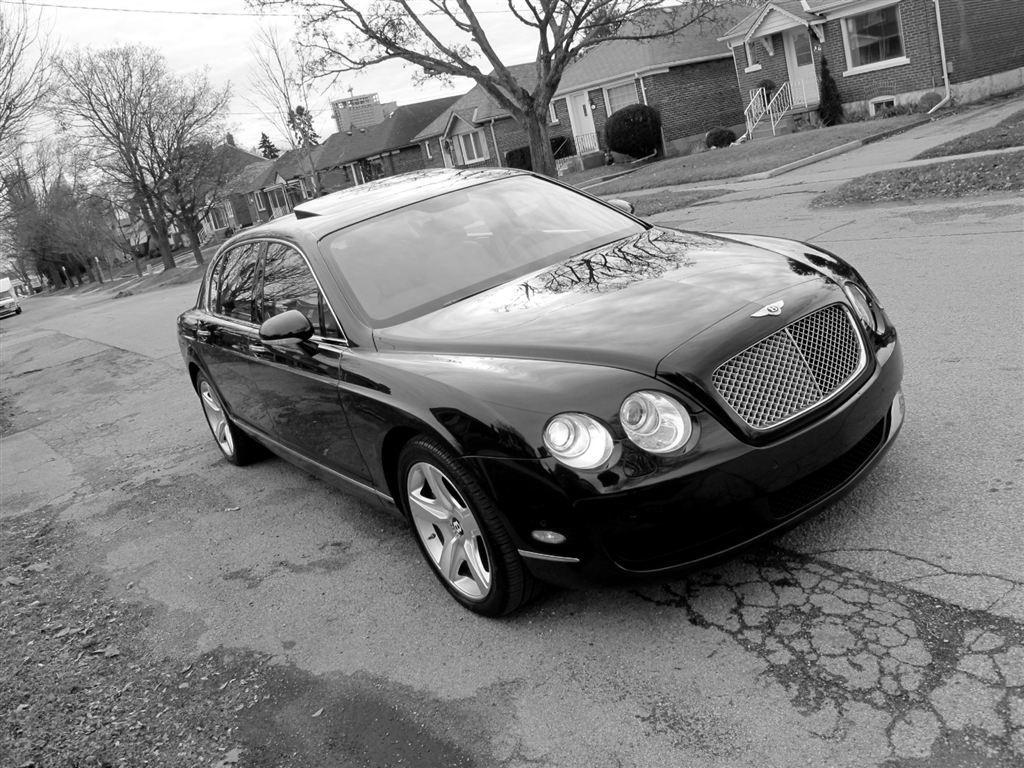car: (172, 158, 940, 629)
